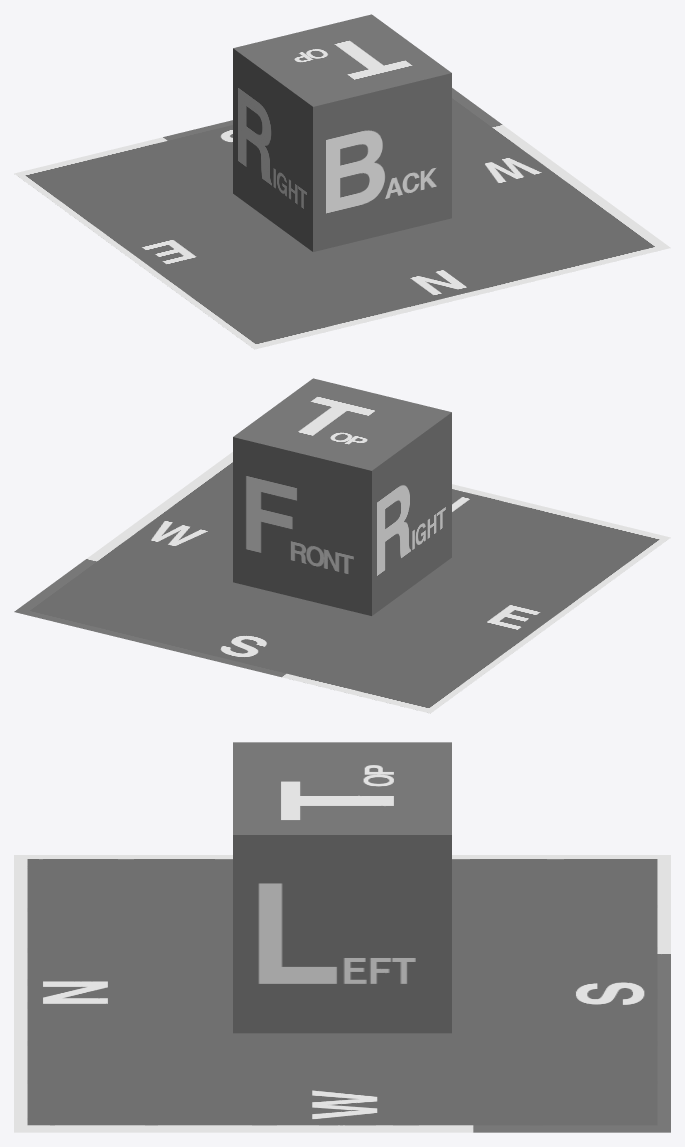
The model's file is Whole_gizmo.fbx.
3 views of the same model, one above another, from view 1: azimuth 30°, elevation 25°; view 2: azimuth 150°, elevation 25°; view 3: azimuth 270°, elevation 25° (orthographic). The views are drawn at different scales.
Visible parts, largest first — view 1: Cube; view 2: Cube; view 3: Cube.
Boxes of the visible parts, box(x1,y1,x2,y2) form: Cube: box(14, 14, 670, 349); Cube: box(14, 378, 670, 713); Cube: box(14, 742, 670, 1132).
Bounding box in the file's own units: 600 × 207 × 600.
Materials: 1 (1 with a texture image).
